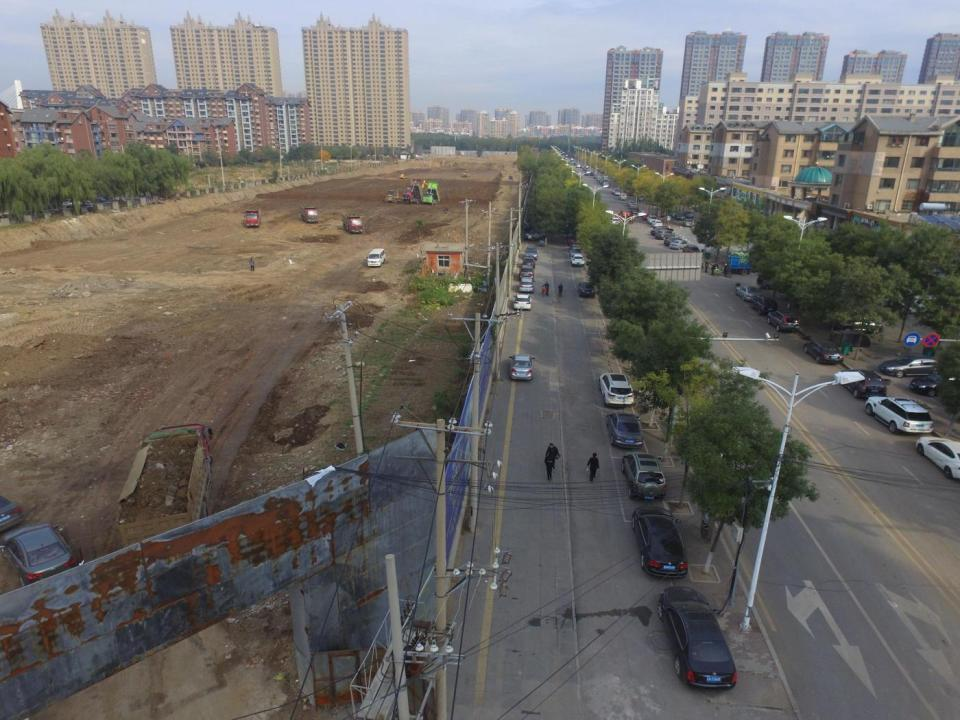car: (658, 584, 738, 691), (2, 524, 76, 594), (632, 505, 687, 580), (866, 393, 933, 436), (622, 452, 666, 502), (838, 369, 888, 403), (880, 354, 949, 378), (894, 286, 950, 315), (606, 409, 642, 450), (908, 369, 959, 396), (599, 373, 633, 408), (829, 314, 883, 332), (804, 341, 842, 365), (769, 310, 801, 332), (509, 354, 534, 380), (751, 296, 780, 317), (756, 272, 786, 291), (737, 286, 761, 302), (580, 280, 597, 298), (514, 294, 532, 310), (518, 276, 534, 294), (524, 229, 546, 242), (518, 266, 535, 280), (669, 239, 689, 250), (572, 252, 585, 268), (683, 245, 699, 258), (655, 230, 675, 240), (524, 246, 537, 261), (664, 237, 683, 247), (651, 226, 669, 236), (570, 247, 582, 259), (522, 257, 535, 268), (567, 234, 578, 245), (570, 244, 581, 254), (684, 218, 695, 227), (647, 216, 659, 224), (675, 212, 685, 221), (684, 210, 693, 219), (653, 221, 662, 228), (642, 214, 649, 221), (657, 210, 665, 216), (611, 189, 618, 194), (614, 190, 619, 195)
truck: (726, 250, 784, 276), (341, 214, 363, 234), (422, 183, 441, 206), (406, 178, 422, 204), (245, 207, 262, 228), (300, 206, 318, 224)
van: (367, 249, 385, 267), (620, 193, 628, 201)
